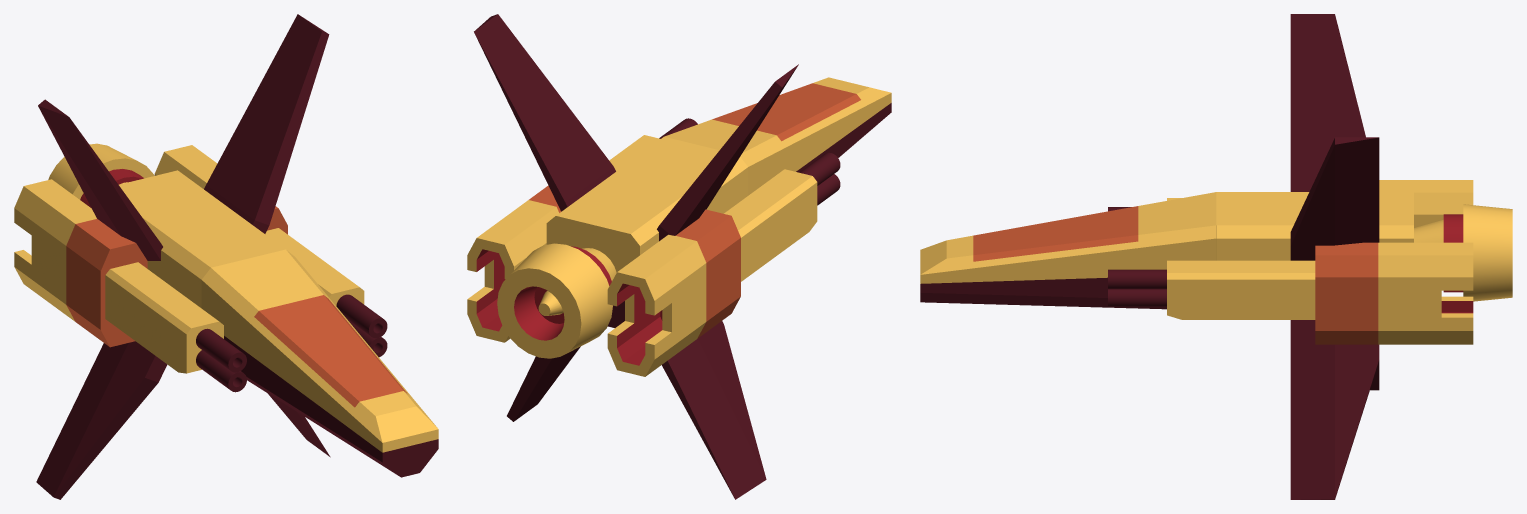
Rendered from gizmo_ship.fbx.
3 renders of one model, left to right at view 1: azimuth 30°, elevation 25°; view 2: azimuth 150°, elevation 25°; view 3: azimuth 270°, elevation 25°, orthographic. The views are drawn at different scales.
Parts seen in each view (by area): view 1: wing_long (×4), hull_cockpitPoint, engine_low (×2), blaster_barrelDouble (×2), hull_body, engine_round; view 2: wing_long (×4), engine_low (×2), hull_body, hull_cockpitPoint, engine_round, blaster_barrelDouble (×2); view 3: wing_long (×3), hull_cockpitPoint, engine_low (×2), blaster_barrelDouble, hull_body, engine_round.
Part boxes in pixels (<box>): wing_long (×4): <box>36,14,330,499</box>; hull_cockpitPoint: <box>201,249,438,477</box>; engine_low (×2): <box>14,145,287,347</box>; blaster_barrelDouble (×2): <box>105,228,387,392</box>; hull_body: <box>119,170,285,308</box>; engine_round: <box>48,143,154,207</box>; wing_long (×4): <box>474,14,798,499</box>; engine_low (×2): <box>467,185,740,376</box>; hull_body: <box>546,136,748,327</box>; hull_cockpitPoint: <box>664,77,891,195</box>; engine_round: <box>497,243,616,358</box>; blaster_barrelDouble (×2): <box>609,118,840,281</box>; wing_long (×3): <box>1290,14,1379,499</box>; hull_cockpitPoint: <box>920,192,1216,309</box>; engine_low (×2): <box>1315,180,1473,344</box>; blaster_barrelDouble: <box>1108,260,1315,319</box>; hull_body: <box>1216,192,1413,260</box>; engine_round: <box>1414,204,1512,301</box>.
Size of the model in its own units: 31.14 by 41.27 by 60.
